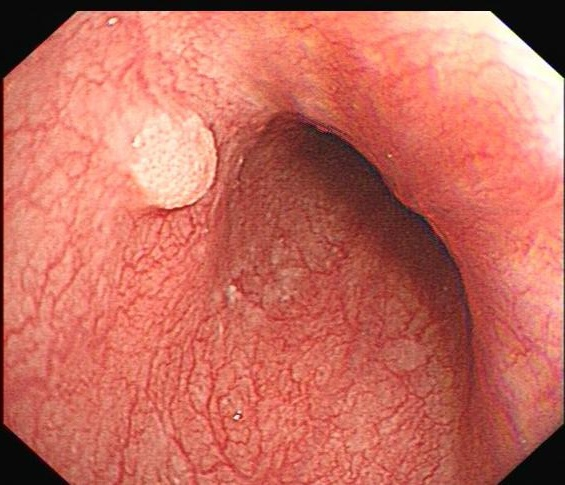Polyp: (119, 102, 232, 217)
